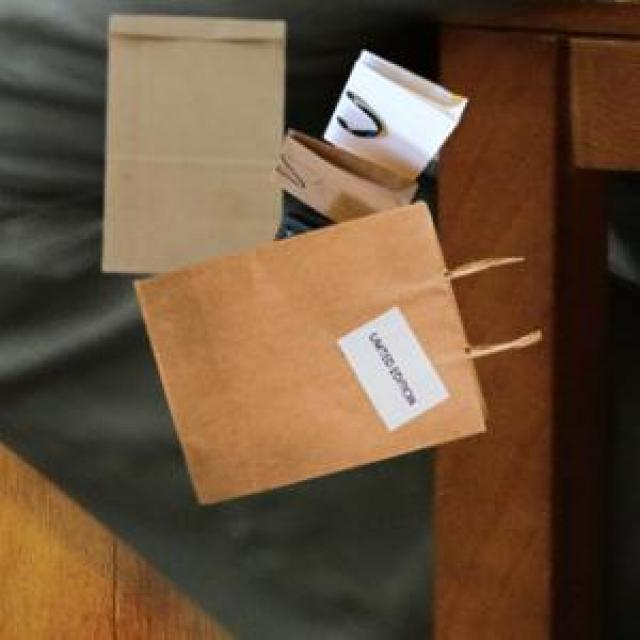Paper -Biodegradable-: (101, 17, 488, 506)
